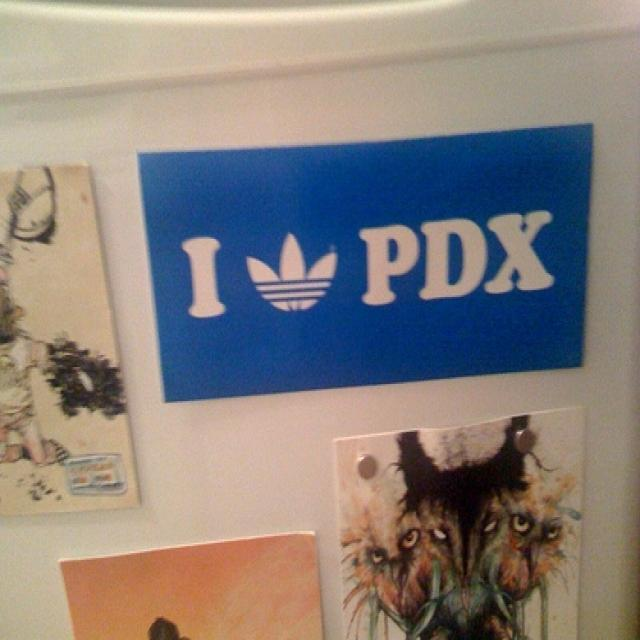adidas: (243, 223, 344, 317)
